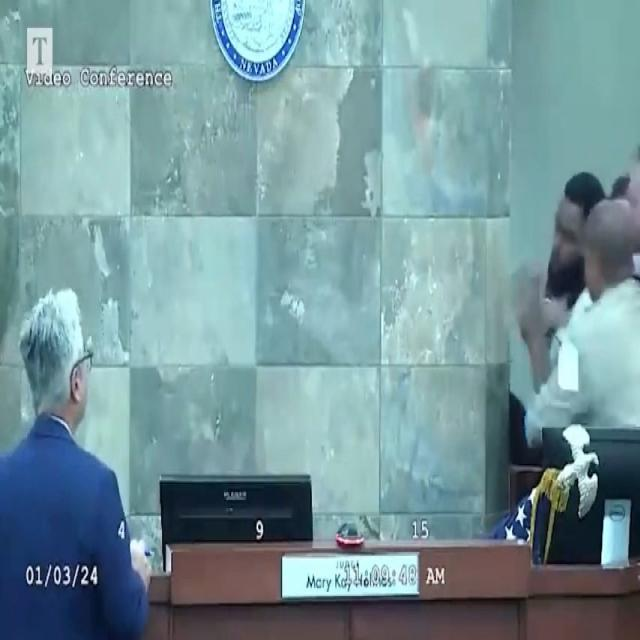fight: (496, 157, 640, 578)
non-fight: (0, 283, 156, 639)
